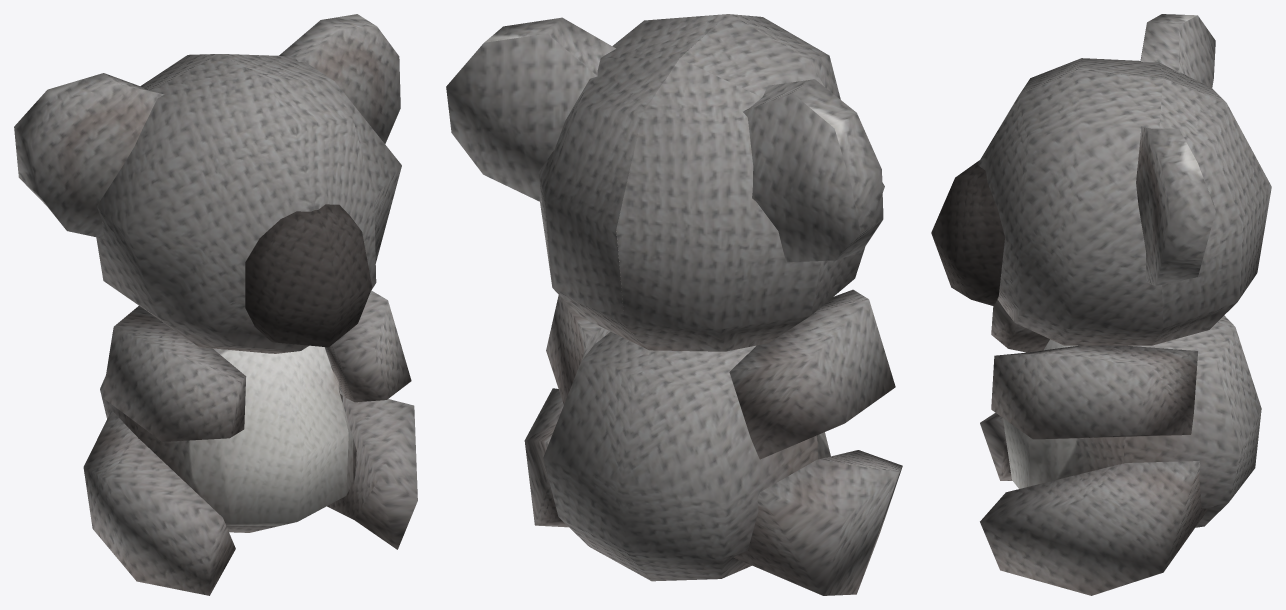
The model's file is doll_koala_col.FBX.
The picture shows the model from 3 angles, left to right: view 1: azimuth 30°, elevation 25°; view 2: azimuth 150°, elevation 25°; view 3: azimuth 270°, elevation 25°; orthographic projection. The views are drawn at different scales.
Parts seen in each view (by area): view 1: dol_koala_col; view 2: dol_koala_col; view 3: dol_koala_col.
Part boxes in pixels (<box>): dol_koala_col: <box>14,14,417,595</box>; dol_koala_col: <box>446,14,902,595</box>; dol_koala_col: <box>931,14,1271,595</box>.
Size of the model in its own units: 81.84 by 102 by 67.45.
